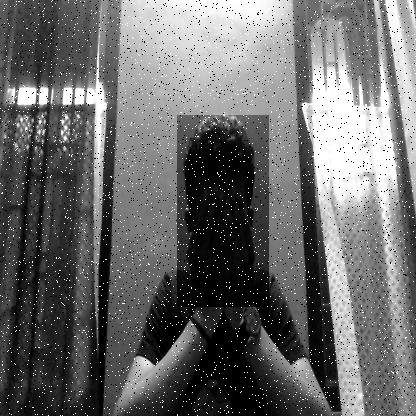Distracted: (177, 115, 269, 307)
